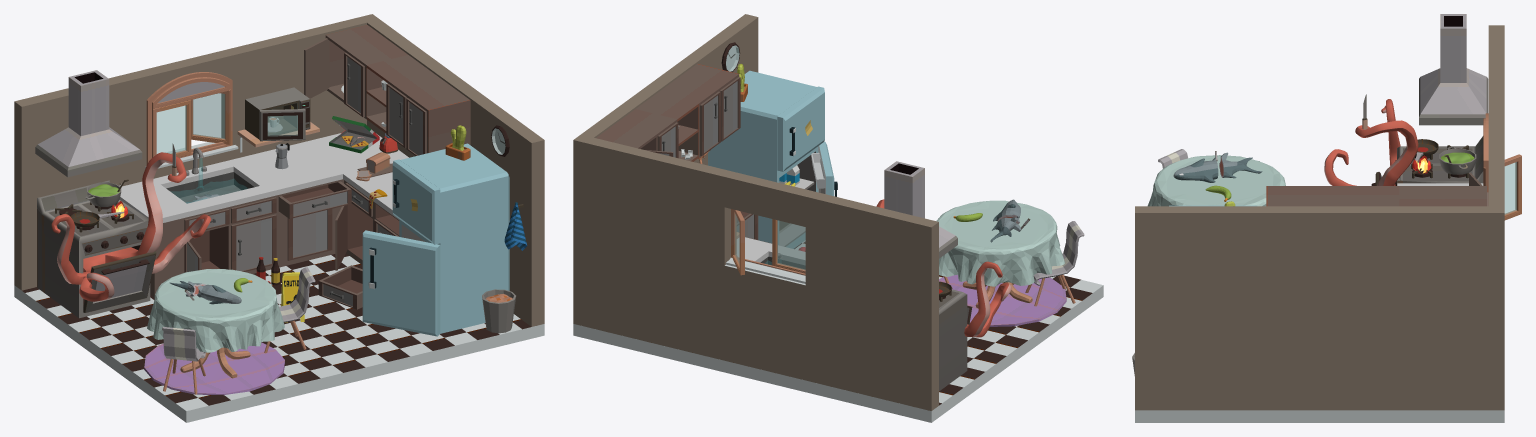
Rendered from Kitchen.glb.
3 renders of one model, left to right at view 1: azimuth 30°, elevation 25°; view 2: azimuth 150°, elevation 25°; view 3: azimuth 270°, elevation 25°, orthographic. The views are drawn at different scales.
Visible parts, largest first — view 1: Window, Cylinder.003, Plane.002, Plane.001, Plane.003, Cube.013, Plane.000, Cube.011, Circle, Cube.015, Cylinder.002, Cube.000 (+6 smaller); view 2: Window, Plane.001, Plane.002, Cube.013, Plane.000, Plane.003, Circle, Cube.011, Cylinder.003, Cylinder.002, Plane.005_cell.001; view 3: Window, Plane.003, Cube.011, Plane.002, Cube.013, Plane.000, Plane.005_cell.001.
Part boxes in pixels (x1=…): Window: x1=14, y1=14, x2=544, y2=326; Cylinder.003: x1=119, y1=133, x2=408, y2=309; Plane.002: x1=14, y1=253, x2=544, y2=422; Plane.001: x1=362, y1=143, x2=509, y2=336; Plane.003: x1=37, y1=143, x2=211, y2=318; Cube.013: x1=304, y1=25, x2=470, y2=155; Plane.000: x1=147, y1=269, x2=284, y2=378; Cube.011: x1=35, y1=70, x2=142, y2=177; Circle: x1=144, y1=342, x2=284, y2=395; Cube.015: x1=237, y1=87, x2=319, y2=152; Cylinder.002: x1=162, y1=327, x2=205, y2=394; Cube.000: x1=482, y1=289, x2=516, y2=333; Window: x1=573, y1=14, x2=938, y2=410; Plane.001: x1=708, y1=70, x2=837, y2=251; Plane.002: x1=573, y1=240, x2=1103, y2=422; Cube.013: x1=596, y1=63, x2=740, y2=161; Plane.000: x1=936, y1=200, x2=1064, y2=308; Plane.003: x1=876, y1=199, x2=1011, y2=391; Circle: x1=939, y1=274, x2=1066, y2=326; Cube.011: x1=884, y1=161, x2=957, y2=258; Cylinder.003: x1=737, y1=211, x2=805, y2=268; Cylinder.002: x1=1025, y1=221, x2=1084, y2=306; Plane.005_cell.001: x1=990, y1=199, x2=1021, y2=242; Window: x1=1135, y1=25, x2=1521, y2=410; Plane.003: x1=1324, y1=94, x2=1483, y2=185; Cube.011: x1=1419, y1=14, x2=1488, y2=125; Plane.002: x1=1135, y1=410, x2=1504, y2=422; Cube.013: x1=1266, y1=173, x2=1487, y2=206; Plane.000: x1=1147, y1=151, x2=1285, y2=206; Plane.005_cell.001: x1=1173, y1=152, x2=1262, y2=182.
Size of the model in its own units: 29.88 by 17.09 by 25.1.
Materials: 8 (2 with a texture image).
